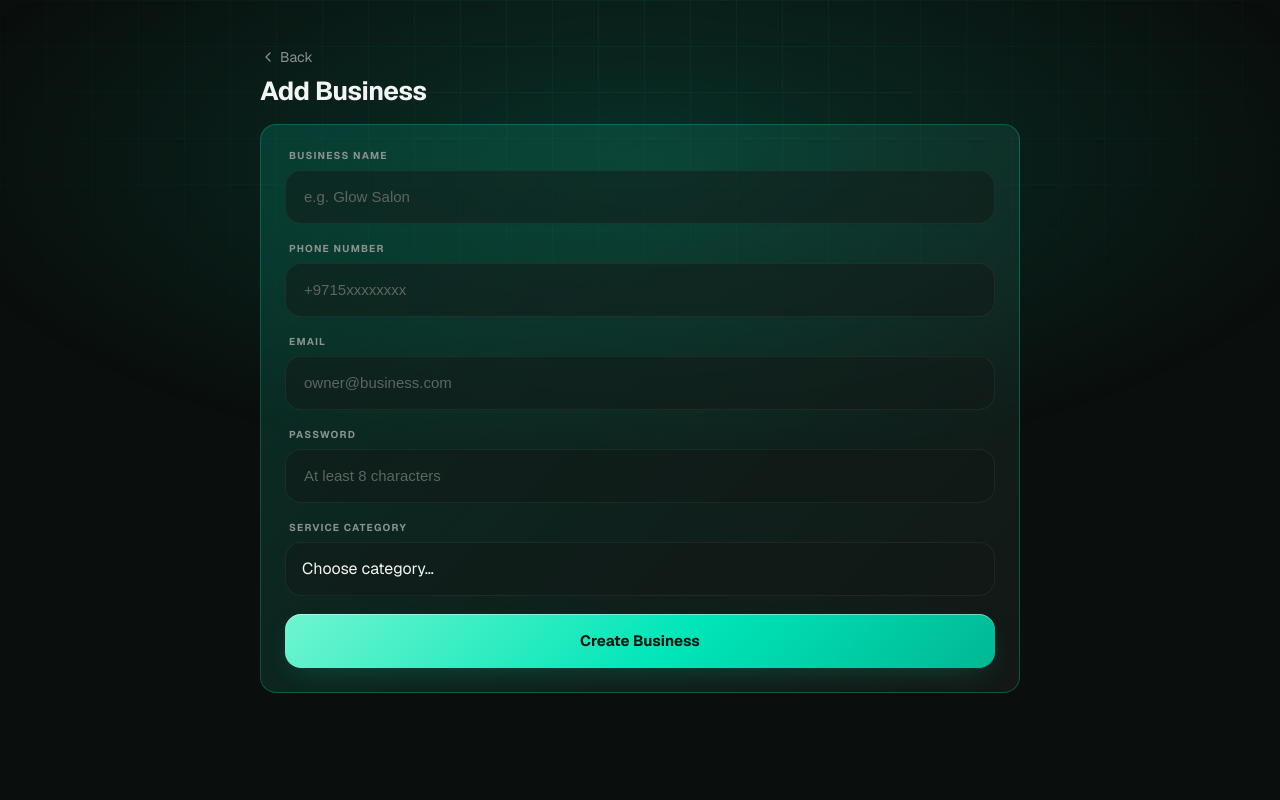
MasterShopCreate › submits name, email, password and category, then shows the new credentials
Type "Acme Salon" into the field labelled "Business Name" at (640, 196), box [302,170,978,222]
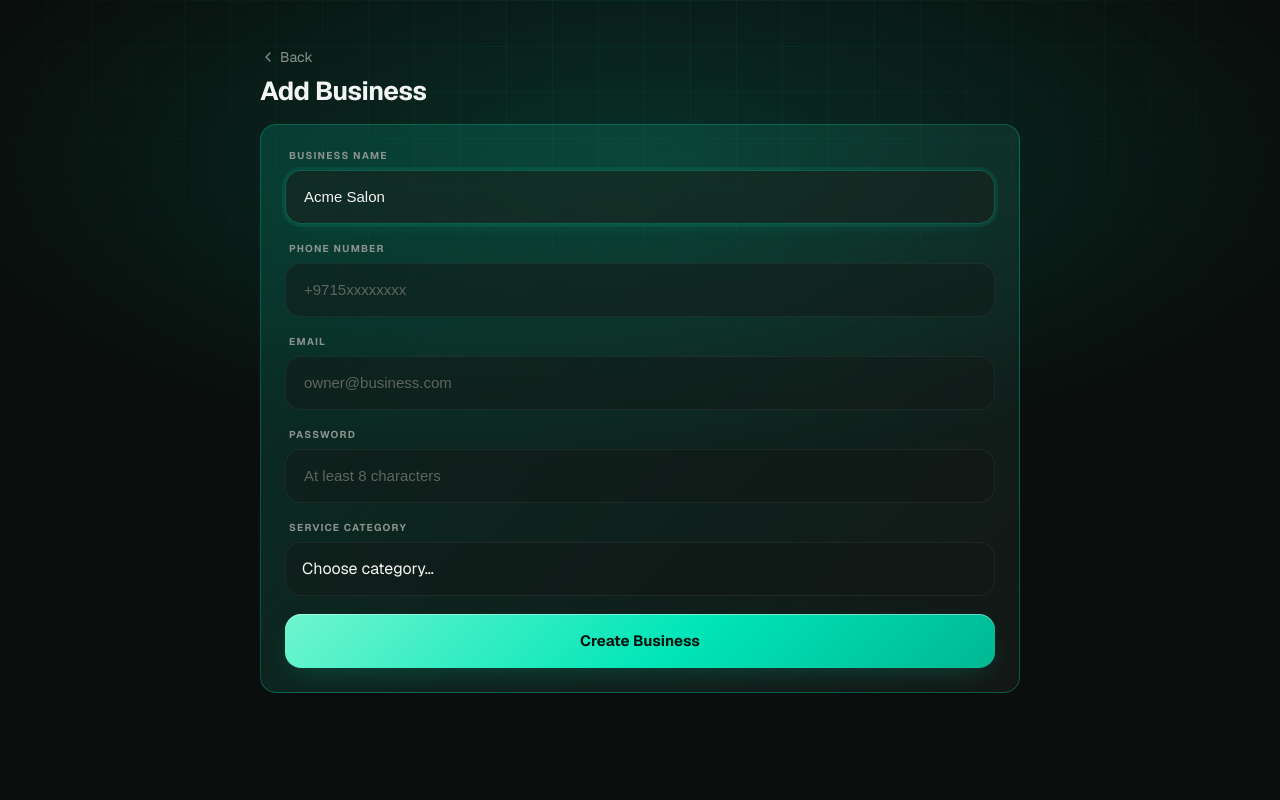
Type "0501234567" into the field labelled "Phone Number" at (640, 290), box [302,264,978,316]
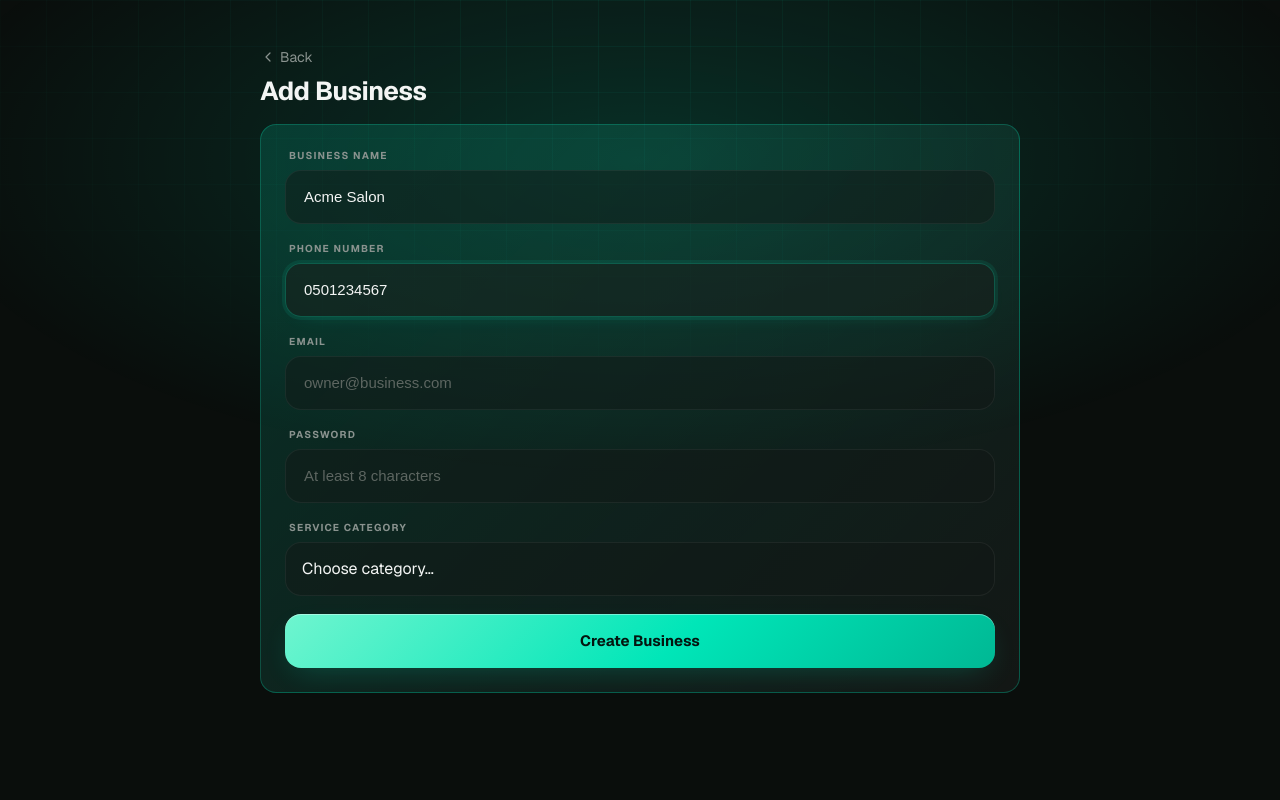
Type "acme@example.com" into the field labelled "Email" at (640, 382), box [302,356,978,408]
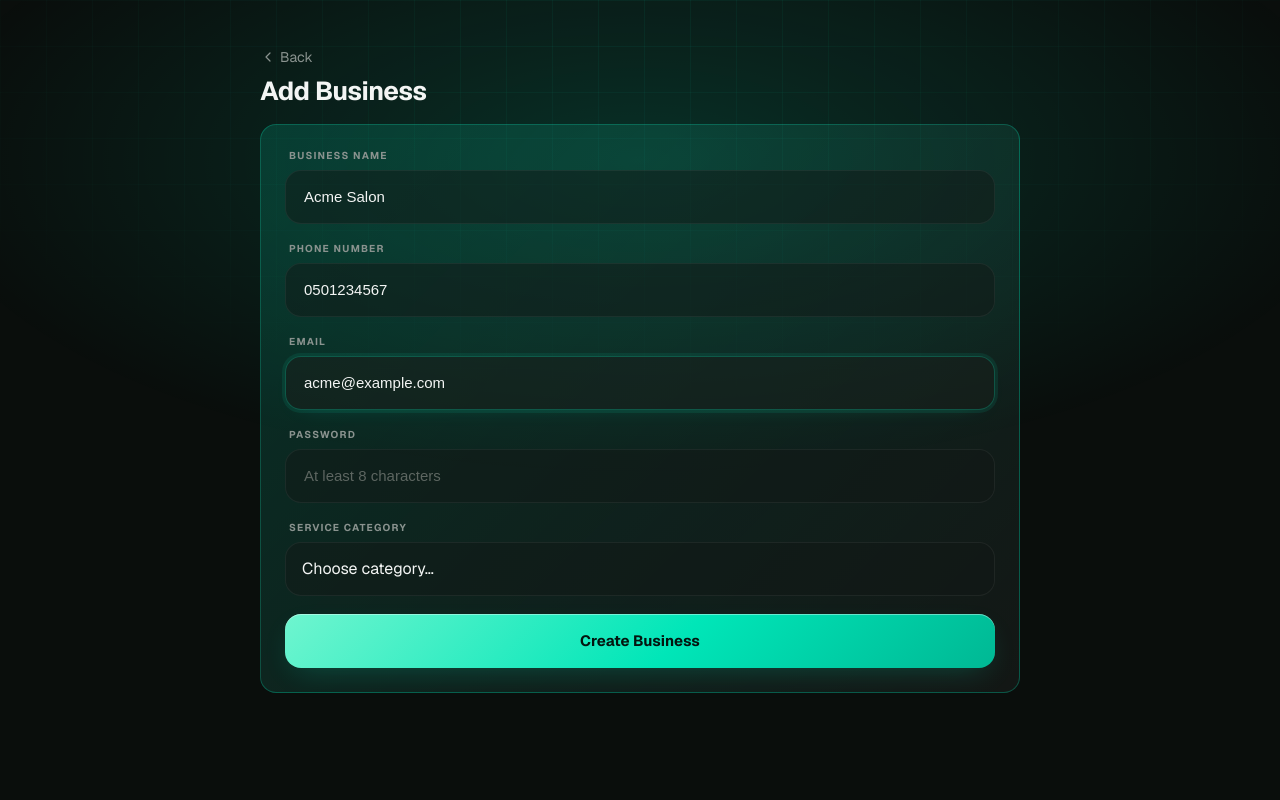
Type "a-strong-pass" into the field labelled "Password" at (640, 476), box [302,450,978,502]
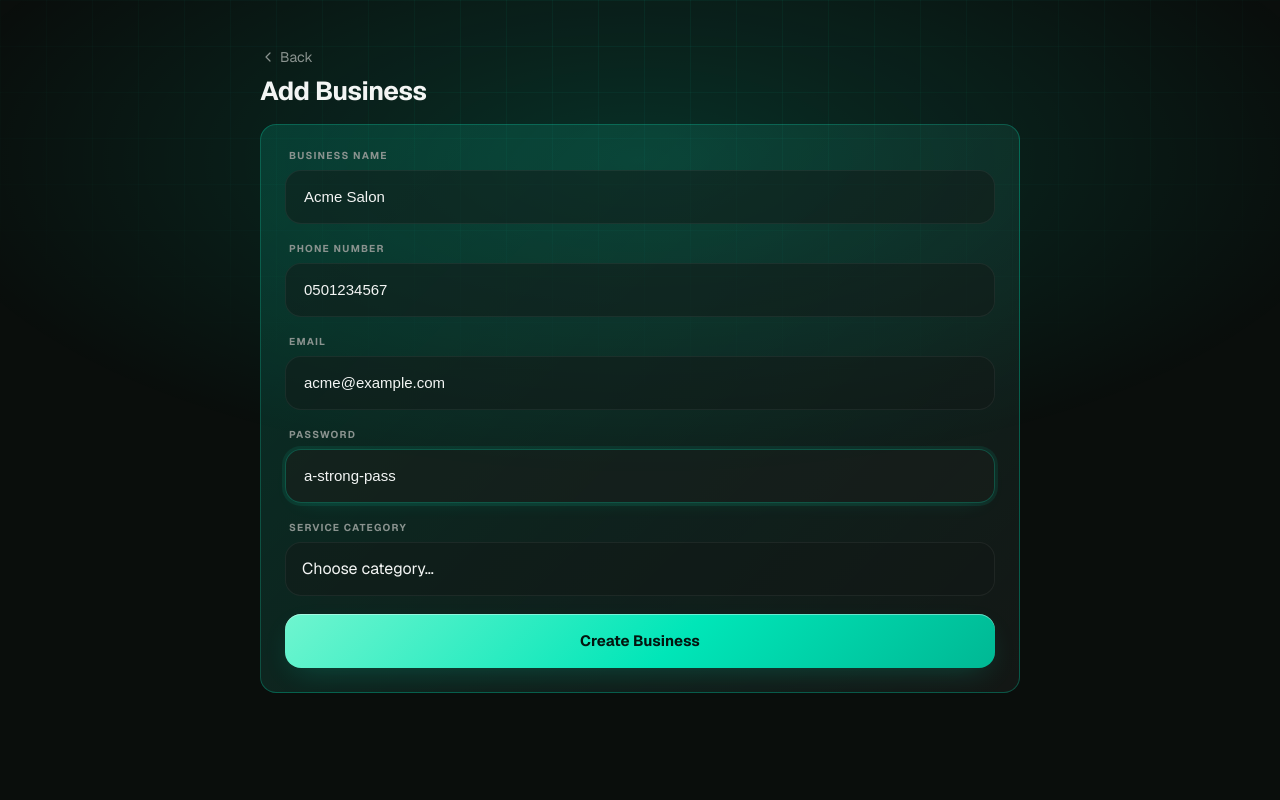
Select "Salon" in the dropdown labelled "Service Category" at (640, 568), box [302,542,978,594]
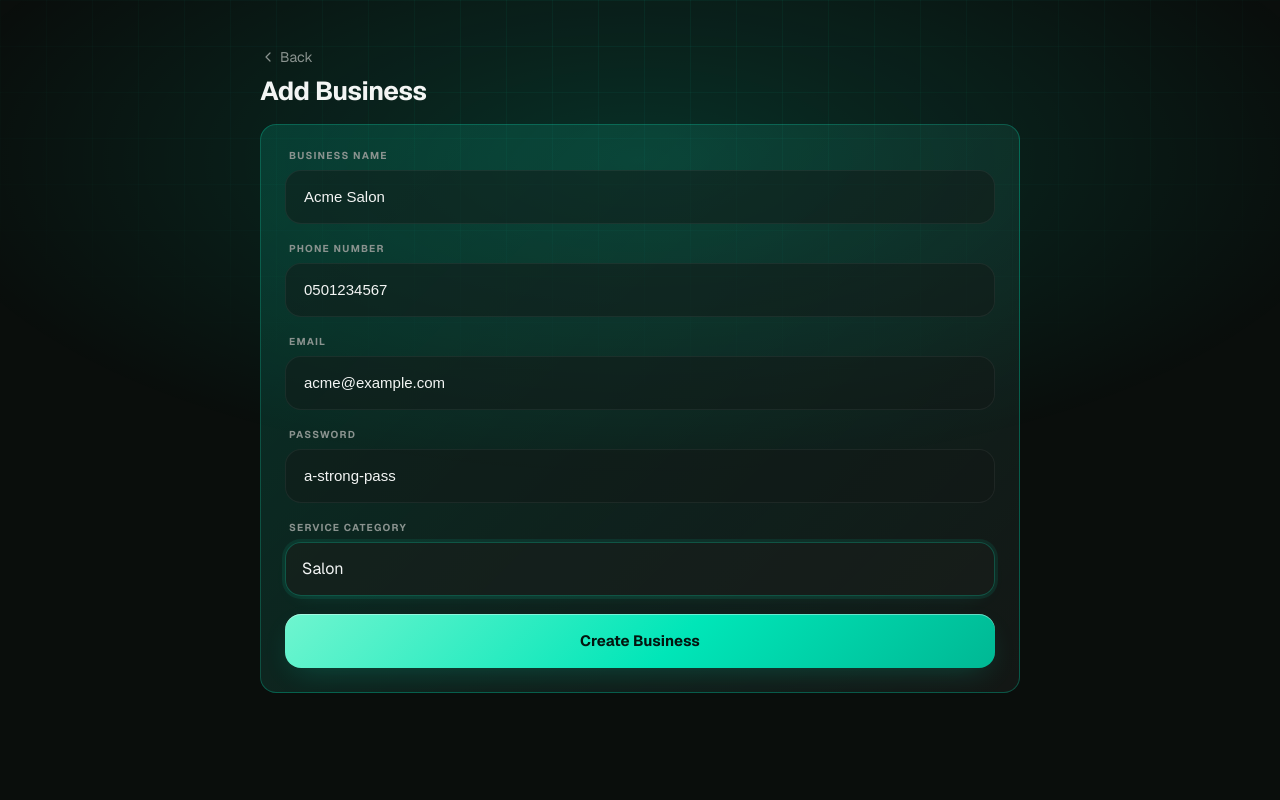
Click the button "Create Business" at (640, 640), box [285,614,995,668]
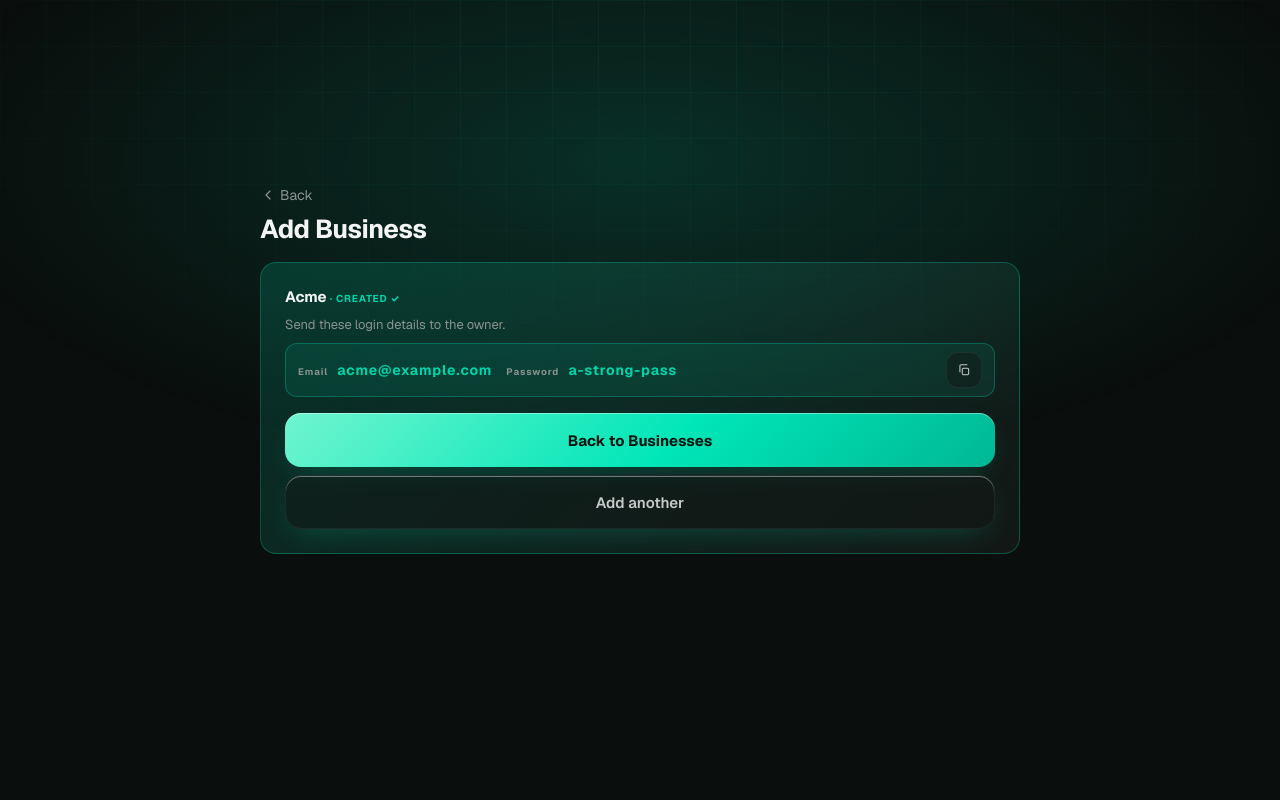
Expected: the text "· created ✓" is shown, [330,292,400,305]
Expected: the text "acme@example.com" is shown, [337,361,492,379]
Expected: the text "a-strong-pass" is shown, [568,361,677,379]
